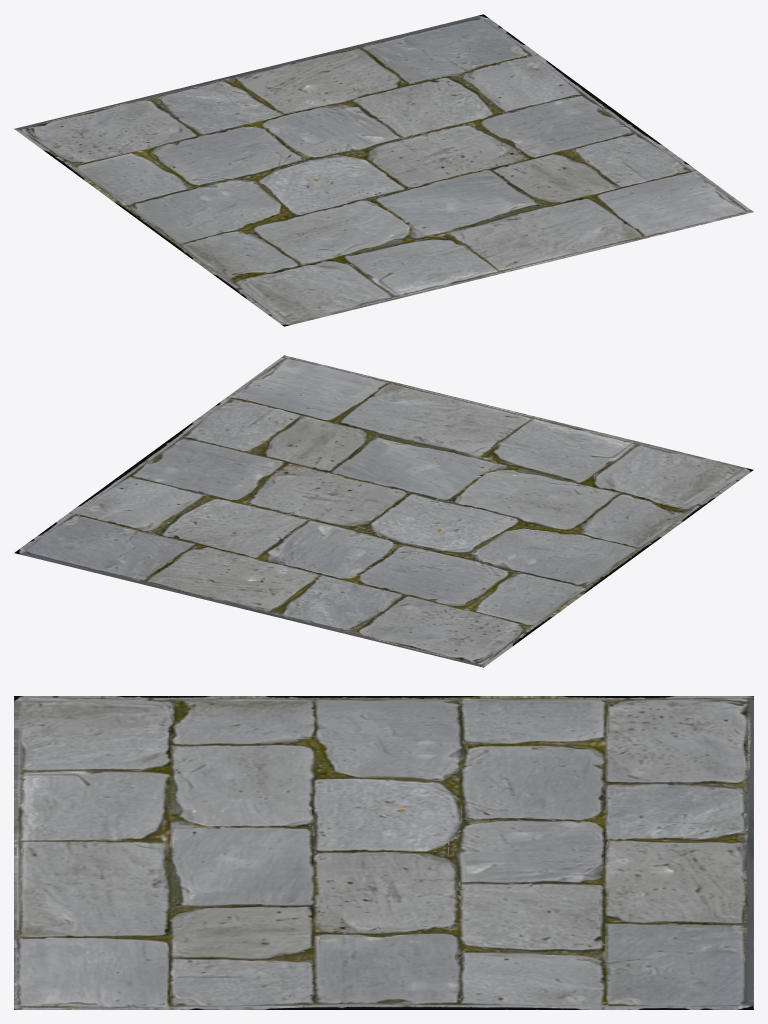
The model's file is floor-baked.glb.
3 views of the same model, one above another, from view 1: azimuth 30°, elevation 25°; view 2: azimuth 150°, elevation 25°; view 3: azimuth 270°, elevation 25° (orthographic). The views are drawn at different scales.
Visible parts, largest first — view 1: Baked_floor; view 2: Baked_floor; view 3: Baked_floor.
Boxes of the visible parts, bbox=[...] form: Baked_floor: bbox=[14, 14, 753, 326]; Baked_floor: bbox=[14, 355, 753, 667]; Baked_floor: bbox=[14, 696, 753, 1009].
Size of the model in its own units: 6.02 by 0.0226 by 6.
Materials: 1 (1 with a texture image).
